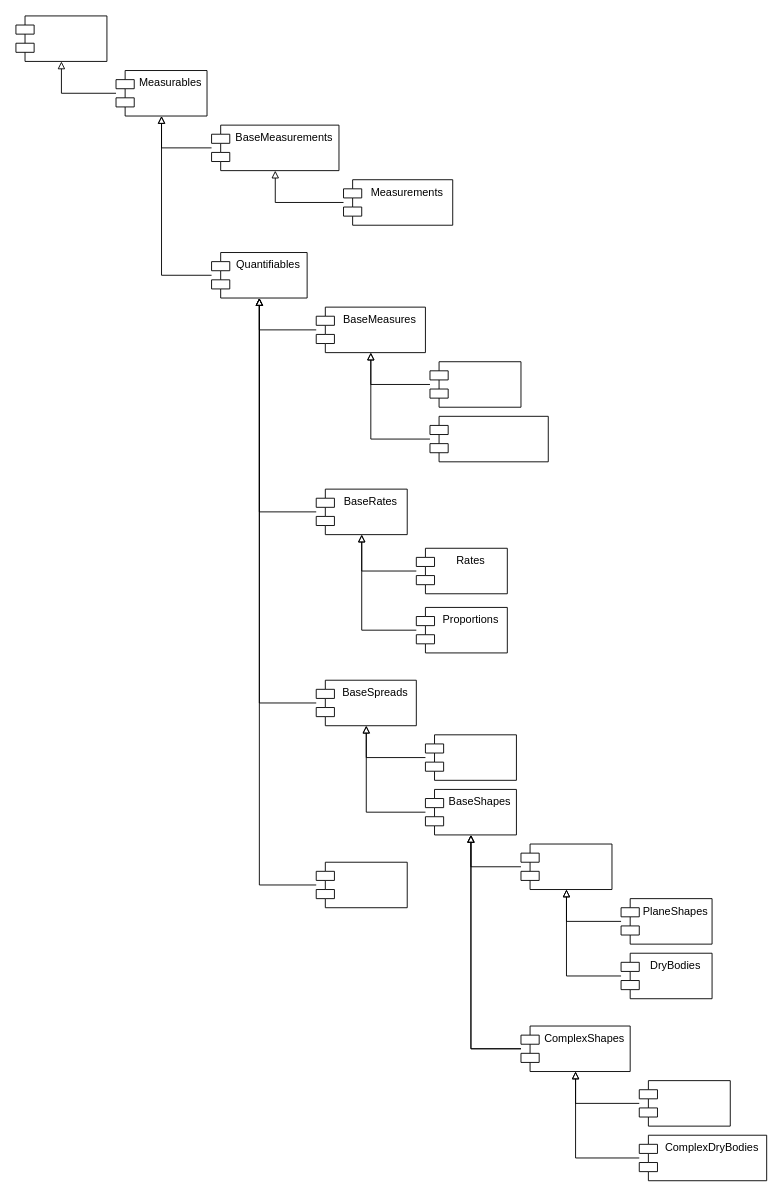
Some shapes in this 783 by 1197 pixel diagram are drawn without their labels. The shapes that lost their labels are listed below. From the top down, each one's centre as x and y in pixels, then its label:
(x=61, y=38): Common
(x=475, y=384): Measures
(x=488, y=438): RateComponents
(x=470, y=757): Spreads
(x=361, y=884): Masses
(x=566, y=866): Shapes
(x=684, y=1103): Sections
